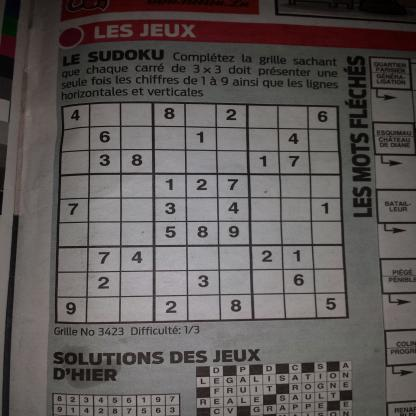sudoku: (52, 98, 351, 327)
